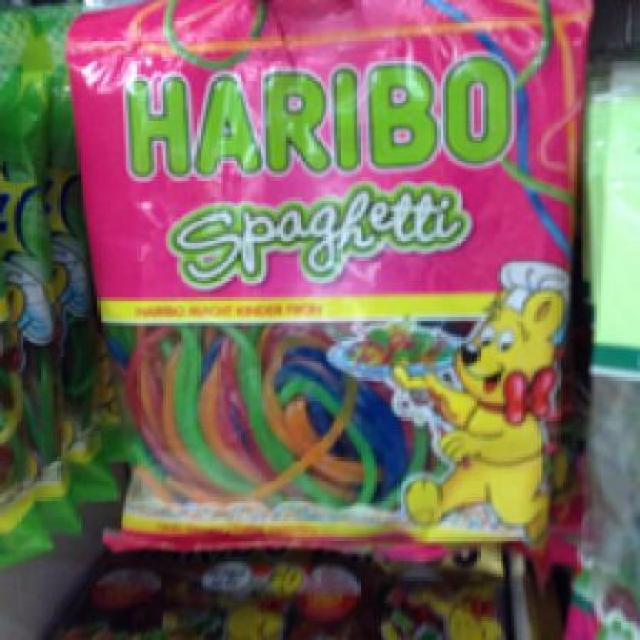Candy: (63, 6, 580, 554)
